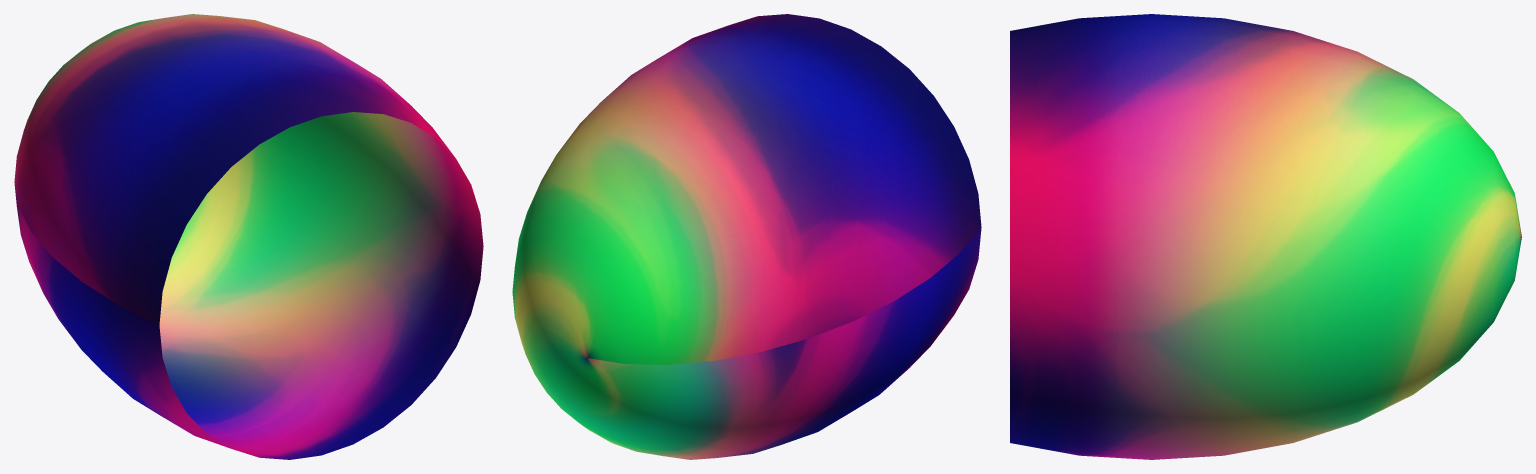
Rendered from Bullet.fbx.
3 renders of one model, left to right at view 1: azimuth 30°, elevation 25°; view 2: azimuth 150°, elevation 25°; view 3: azimuth 270°, elevation 25°, orthographic. The views are drawn at different scales.
Parts seen in each view (by area): view 1: Sphere; view 2: Sphere; view 3: Sphere.
Boxes of the visible parts, x1=… form: Sphere: x1=14, y1=14, x2=483, y2=459; Sphere: x1=512, y1=14, x2=981, y2=459; Sphere: x1=1010, y1=14, x2=1521, y2=459.
Bounding box in the file's own units: 200 × 200 × 229.
